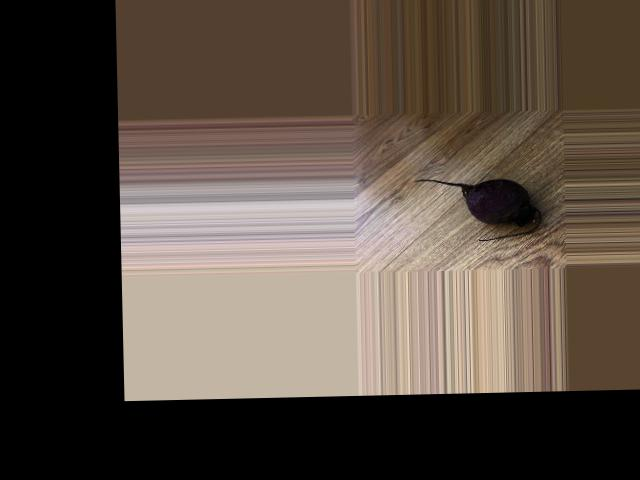beet: (413, 176, 541, 242)
